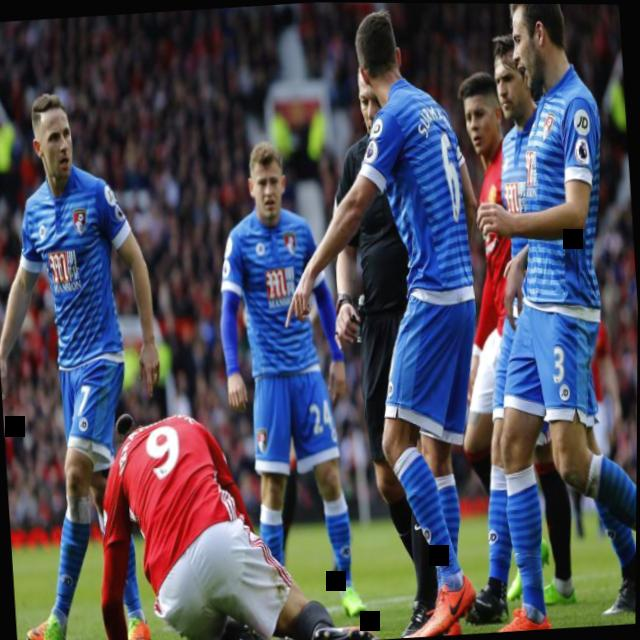Fall-Detected: (80, 376, 391, 640)
